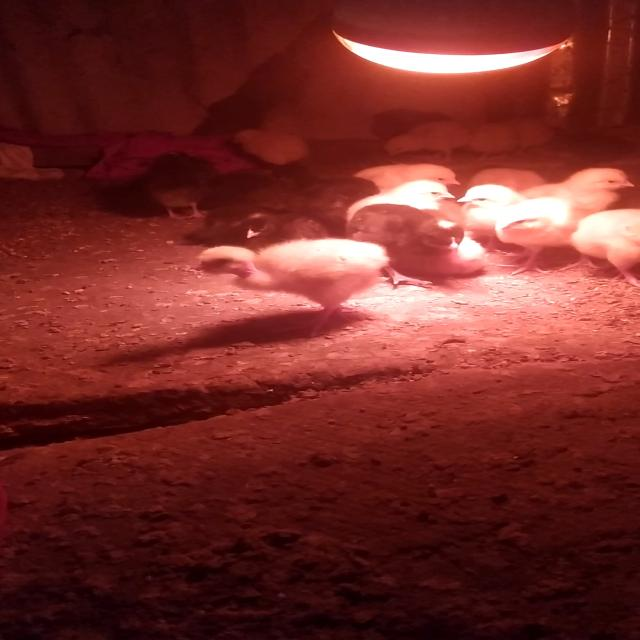chick: (198, 239, 390, 333), (342, 201, 466, 288), (498, 198, 585, 277), (573, 207, 640, 291), (462, 185, 535, 252), (144, 152, 214, 220), (528, 167, 634, 211), (348, 182, 456, 222), (377, 118, 473, 162), (239, 211, 329, 255), (231, 127, 317, 171), (354, 163, 462, 197), (468, 169, 549, 192), (472, 122, 511, 164)
objects: (322, 0, 582, 76)
